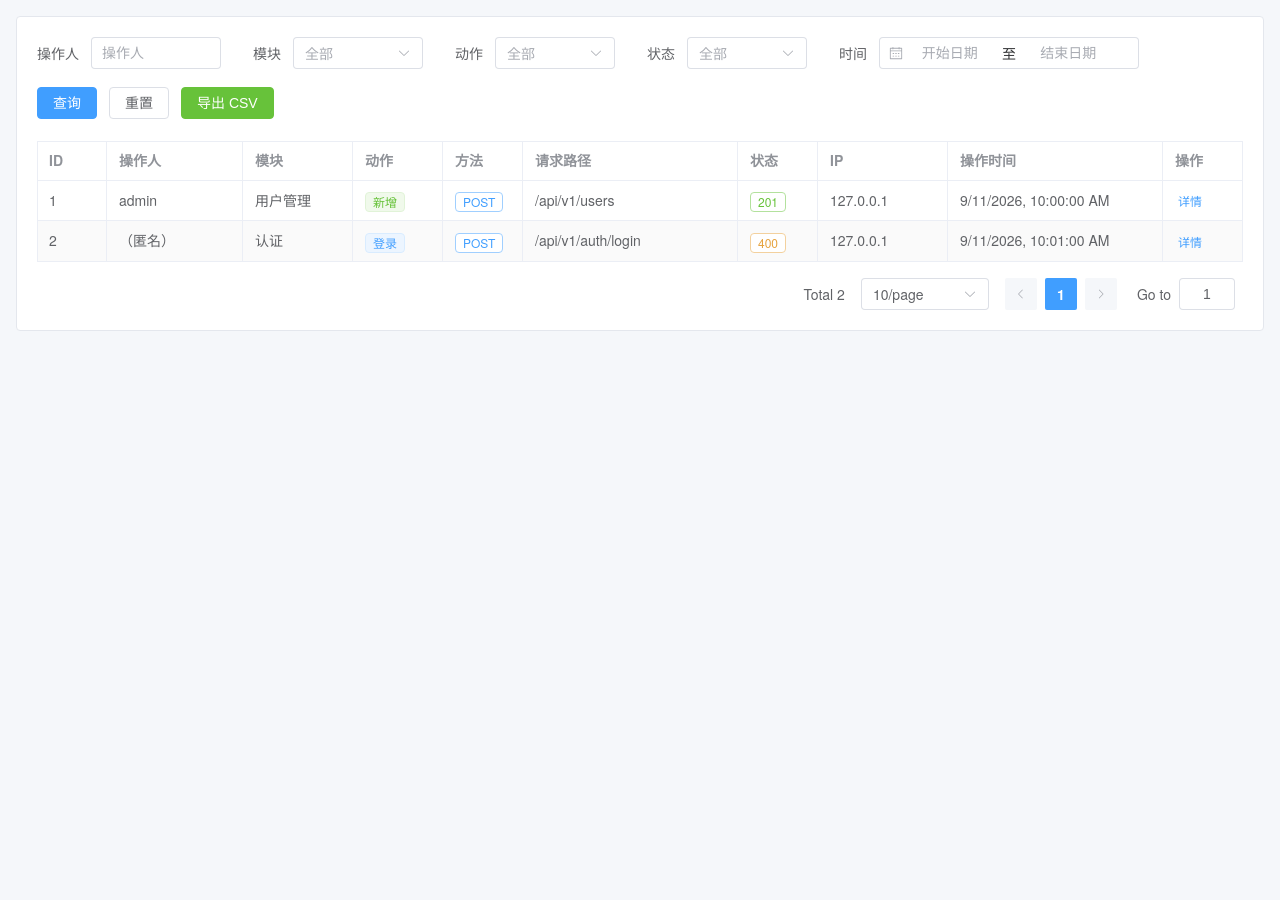
AuditLogList 操作日志 › 详情抽屉：点击详情展示脱敏后的请求参数
Click the button "详情" in the row of "admin" at (1190, 202), box 1175,194 -> 1205,212
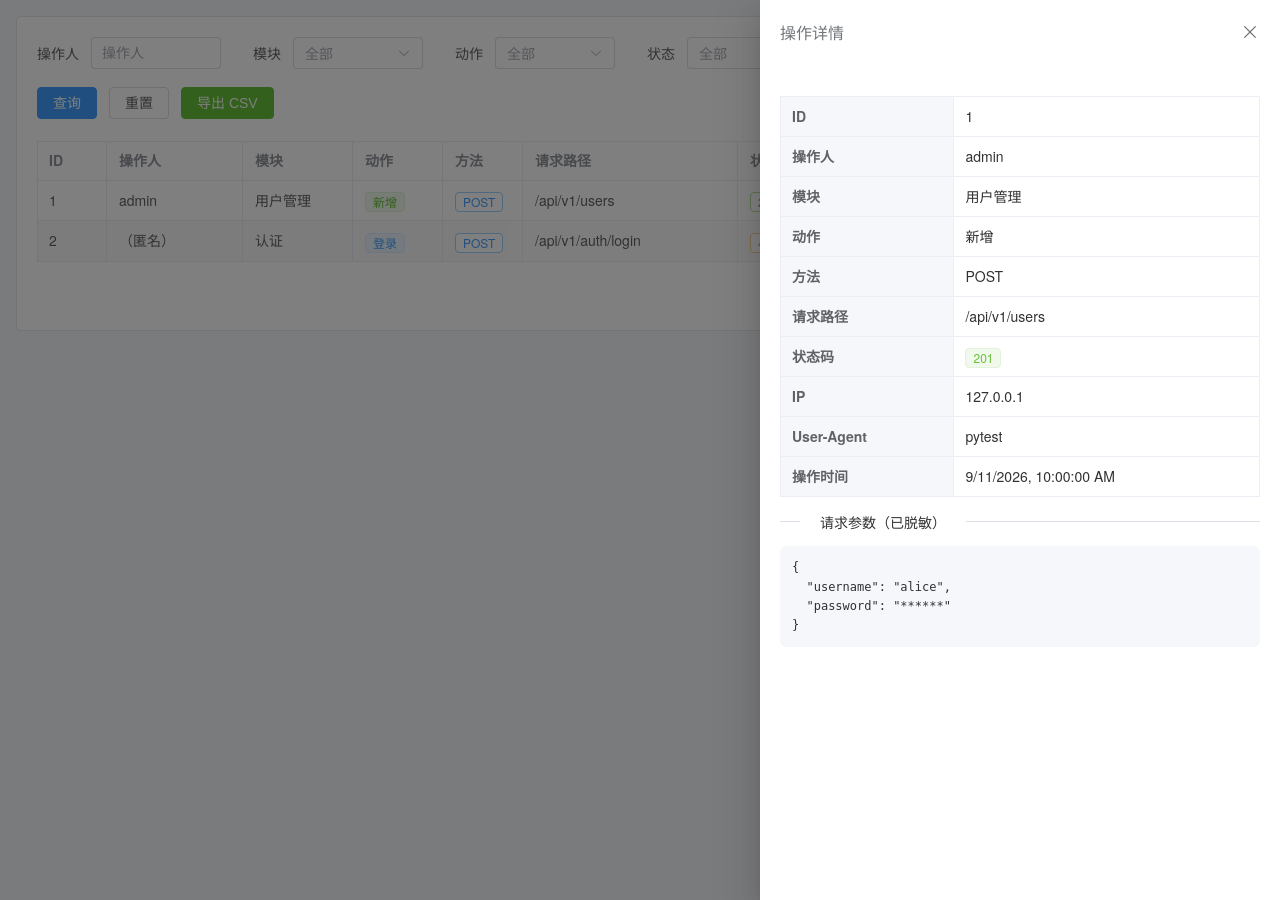
Expected: the text "请求参数（已脱敏）" is shown, 800,512 -> 966,532
Expected: the text "\"password\": \"******\"" is shown, 792,560 -> 951,632
